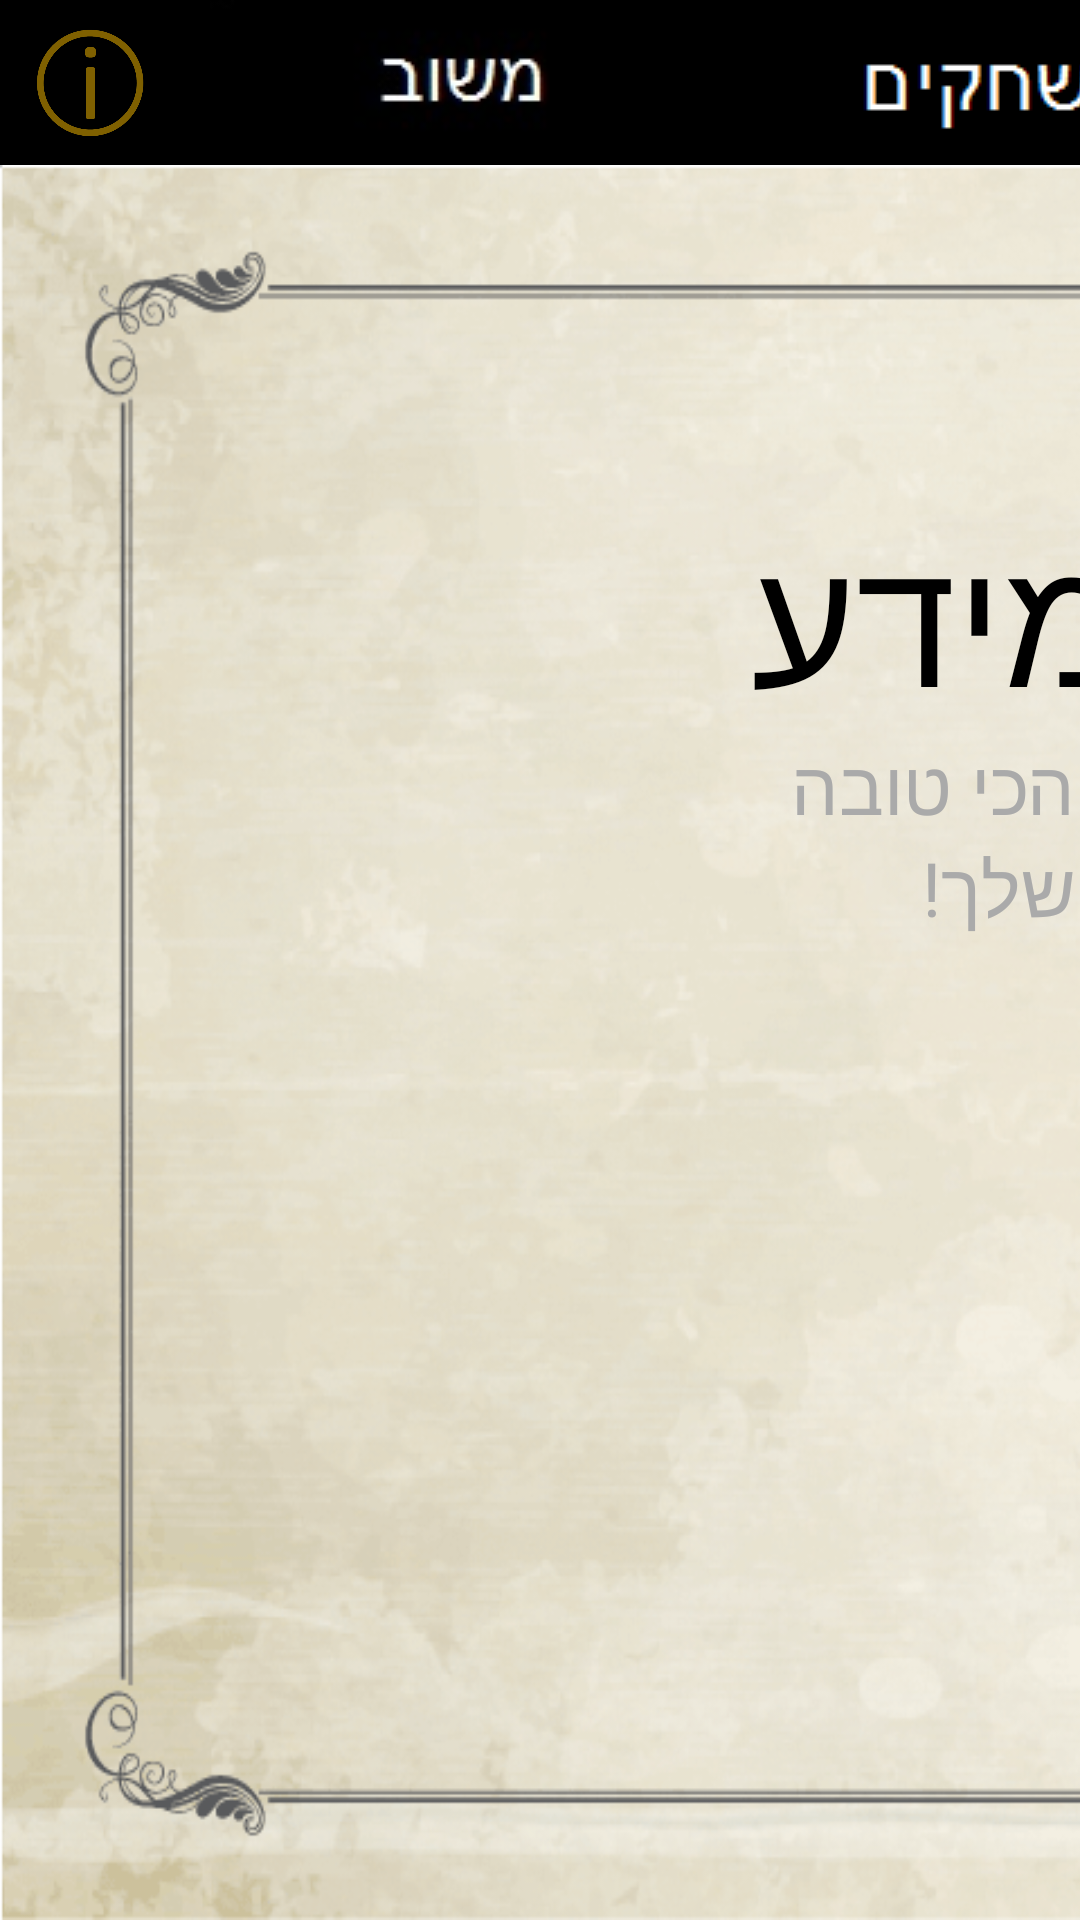

Named icons in this screenshot (1080*1920) and their centers, point (x, y):
infopushbtn: point (90, 83)
